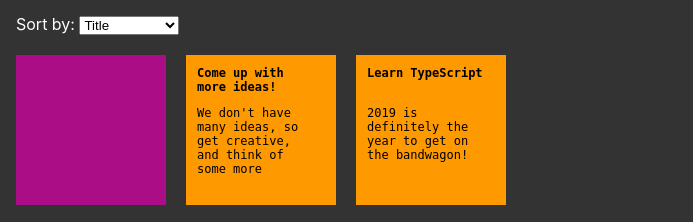
can CREATE a new blank idea when the add button is clicked and auto focuses the title field
Expected: the number of list items with test id "idea-item" is 2, [186,55,336,205]; [356,55,506,205]
Click the button with test id "add-button" at (91, 130), box [16,55,166,205]
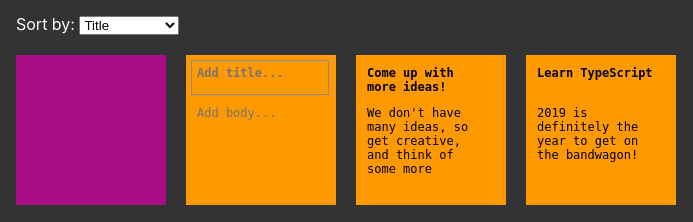
Now the number of list items with test id "idea-item" is 3, box [186,55,336,205]; [356,55,506,205]; [526,55,676,205]
Now the text box with placeholder "Add title..." is empty, box [191,60,329,95]
Now the text box with placeholder "Add body..." is empty, box [191,100,329,195]
